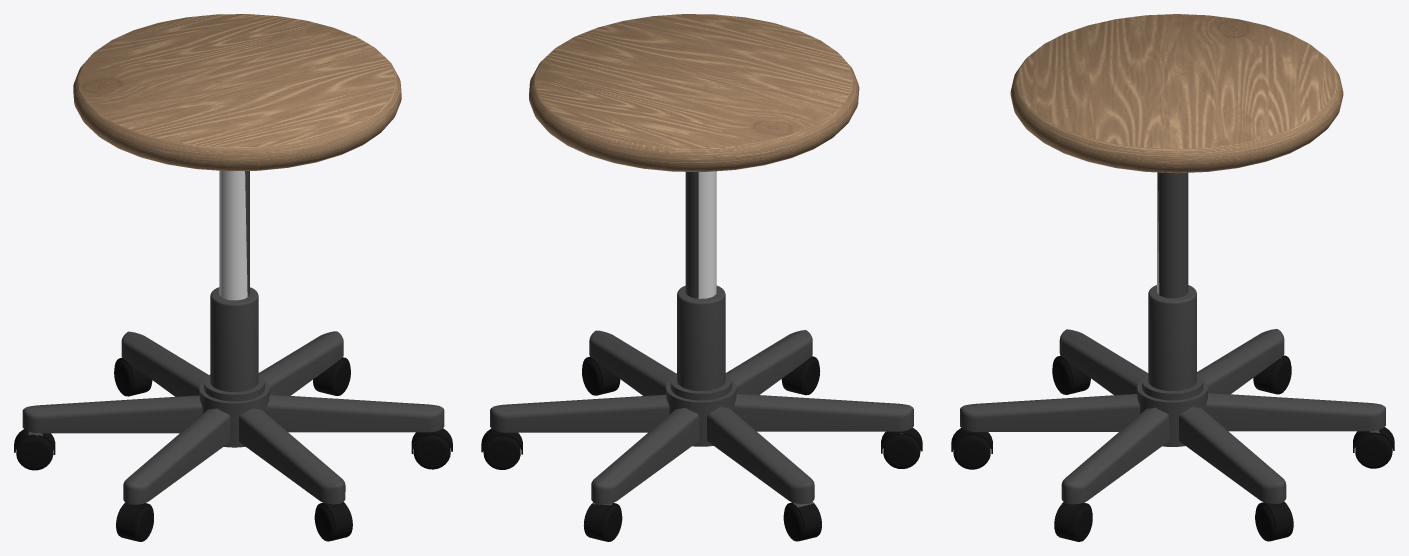
Rendered from Chair_Wood.glb.
3 renders of one model, left to right at view 1: azimuth 30°, elevation 25°; view 2: azimuth 150°, elevation 25°; view 3: azimuth 270°, elevation 25°, orthographic.
Parts seen in each view (by area): view 1: Chair; view 2: Chair; view 3: Chair.
Boxes of the visible parts, x1,y1,x2,y2 form: Chair: (14, 14, 452, 541); Chair: (481, 14, 922, 541); Chair: (951, 14, 1394, 541).
Bounding box in the file's own units: 0.4342 × 0.4683 × 0.4874.
Materials: 4 (1 with a texture image).
